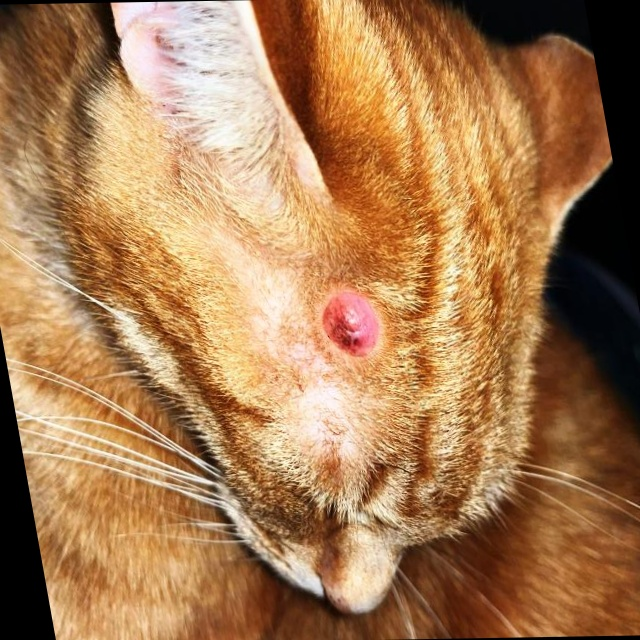lump_and_bump: (315, 285, 387, 359)
